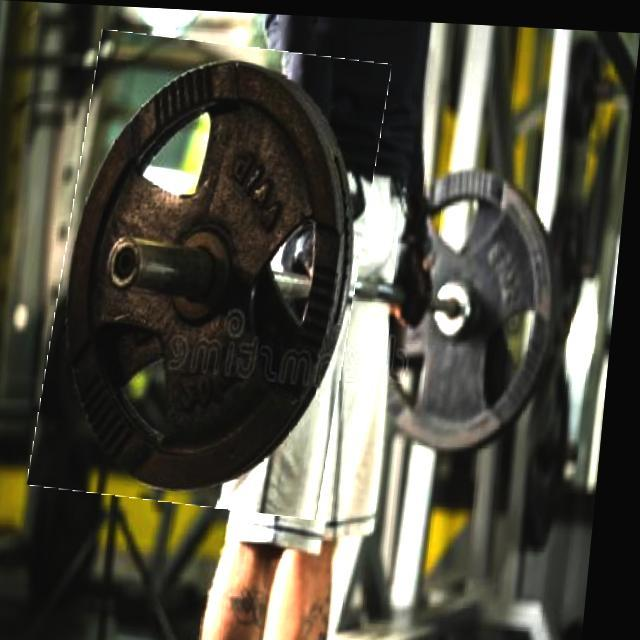barbell: (44, 34, 386, 513)
